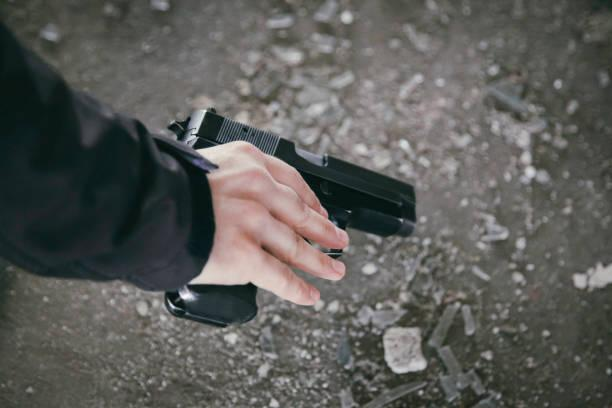weapon: (164, 105, 417, 336)
